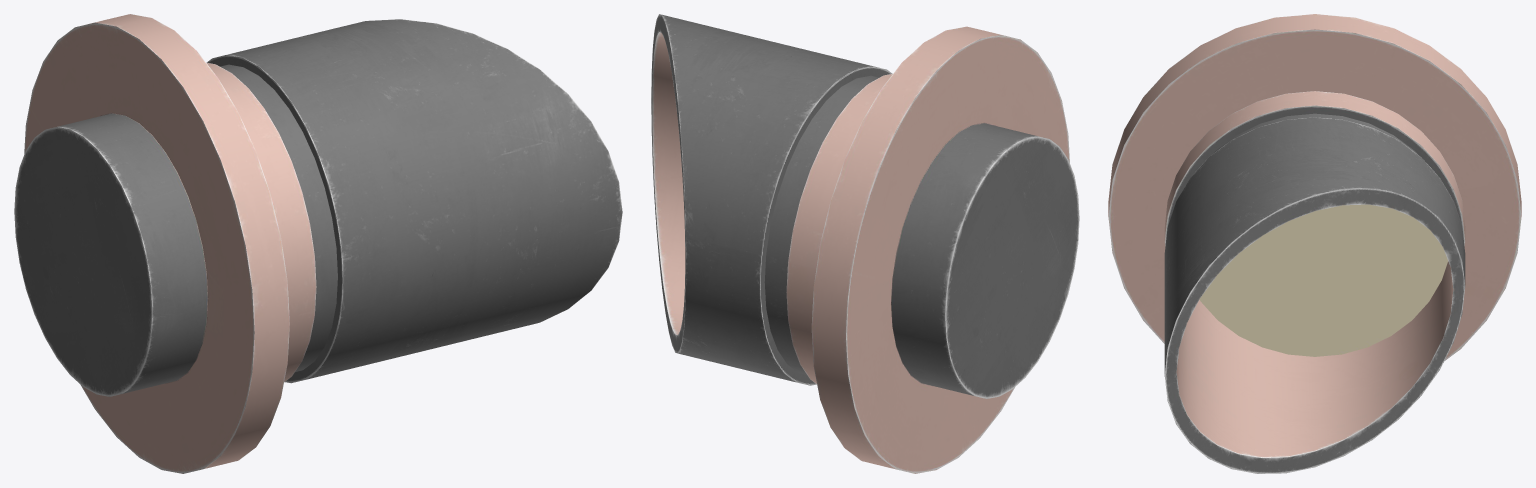
Rendered from guard_4_c_c.glb.
3 renders of one model, left to right at view 1: azimuth 30°, elevation 25°; view 2: azimuth 150°, elevation 25°; view 3: azimuth 270°, elevation 25°, orthographic. The views are drawn at different scales.
Parts seen in each view (by area): view 1: guard_4_c_c_lod0; view 2: guard_4_c_c_lod0; view 3: guard_4_c_c_lod0.
Boxes of the visible parts, bbox=[...] form: guard_4_c_c_lod0: bbox=[14, 14, 622, 473]; guard_4_c_c_lod0: bbox=[651, 14, 1079, 473]; guard_4_c_c_lod0: bbox=[1108, 14, 1521, 473].
Size of what is drawn, in the model's own units: 0.0475 by 0.0417 by 0.0417.
Materials: 1 (1 with a texture image).
